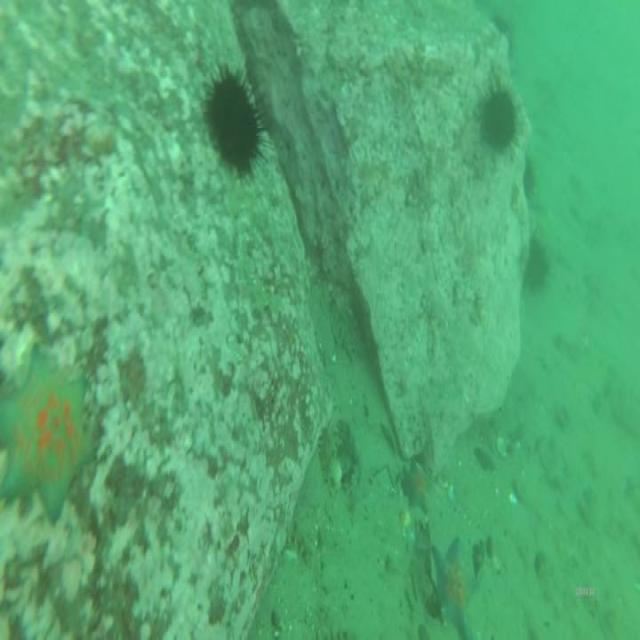echinus: (206, 71, 262, 169), (481, 87, 516, 152), (529, 237, 549, 288)
holothurian: (319, 422, 340, 490)
starfish: (3, 351, 93, 520), (431, 534, 477, 637), (404, 463, 431, 512)
